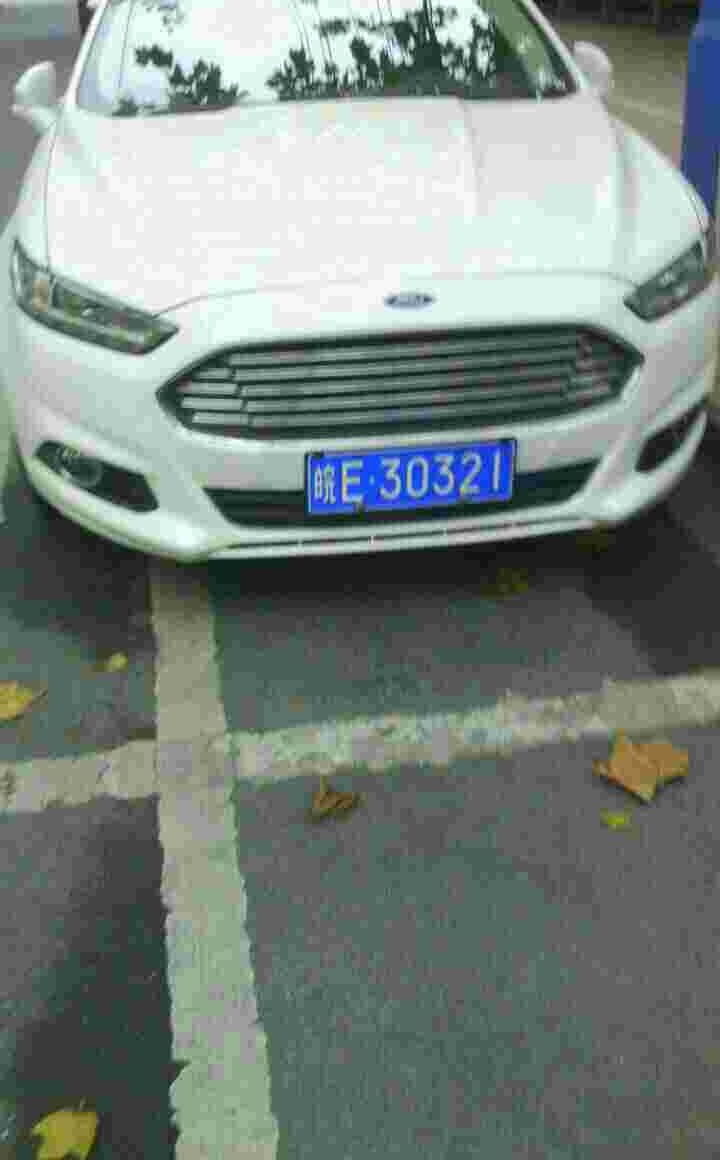license_plate: (309, 443, 514, 516)
